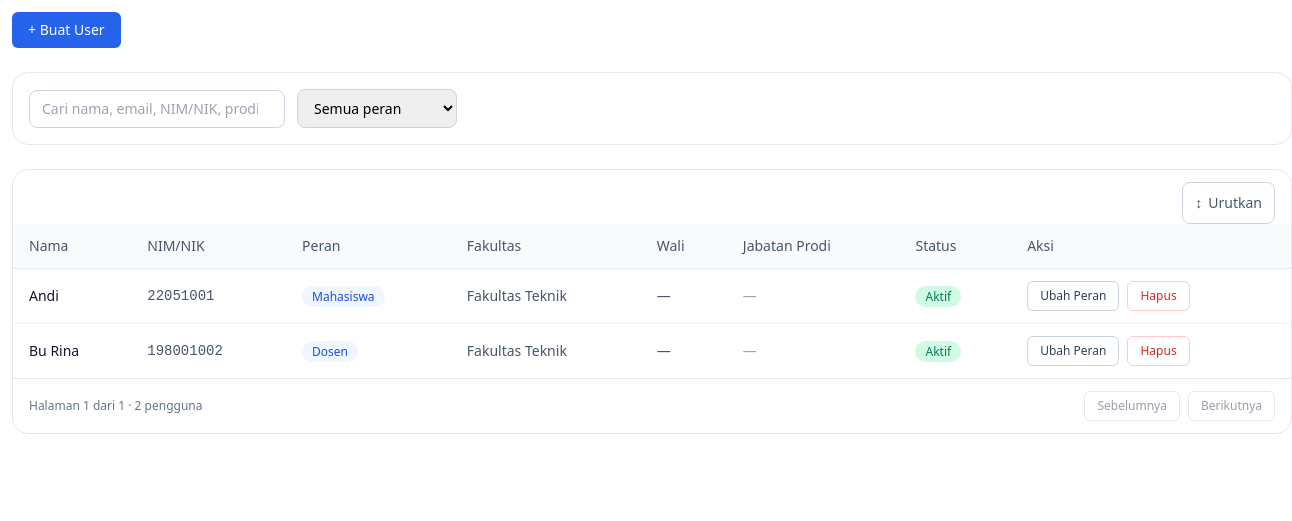
Test case: UsersPage (T1.11c) › hapus user → confirm → DELETE /users/:id → sukses + reload (keluhan lama)
The width and height of the screenshot is (1292, 521).
Check: the text "Andi" is shown, box [13,268,131,324]
Click the button "Hapus" in the row of "Andi" at (1159, 296), box [1128,281,1190,311]
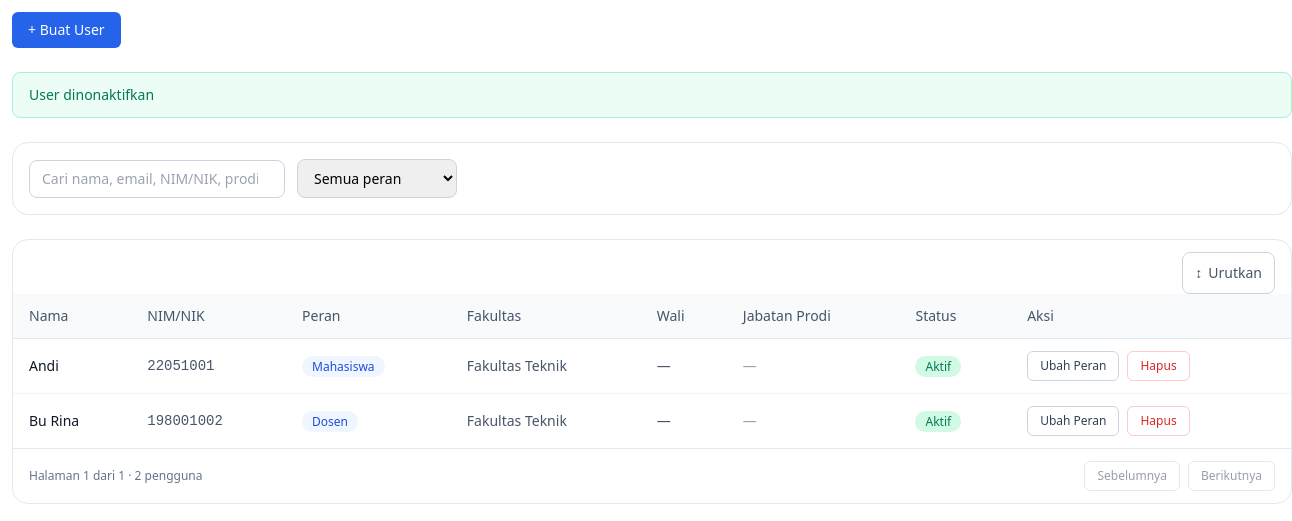
Check: the text "User dinonaktifkan" is shown, box [12,72,1291,118]
